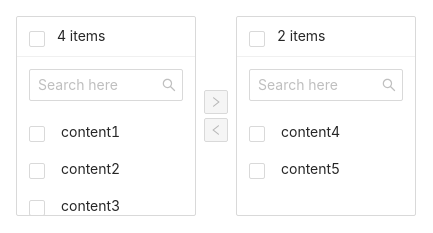
Test case: Transfer › should display the correct count of items when filter by input
Type "content2" into the 1st field with placeholder "Search here" at (106, 85), box x1=29 y1=69 x2=183 y2=101
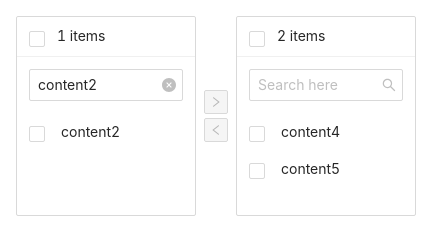
Expected: the text "1 items" is shown, x1=57 y1=27 x2=106 y2=44
